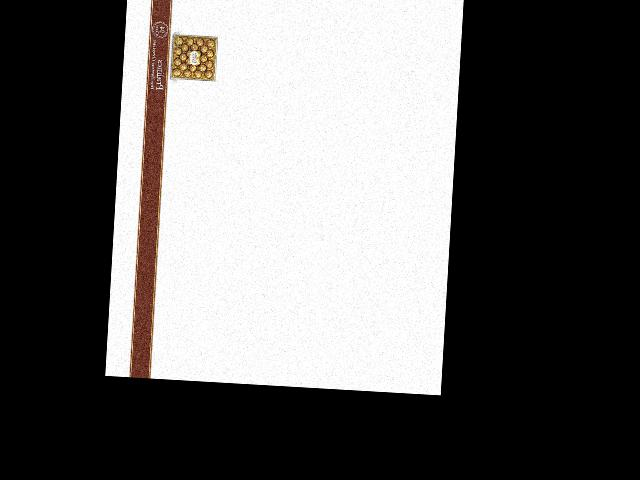chocolate: (167, 30, 221, 83)
